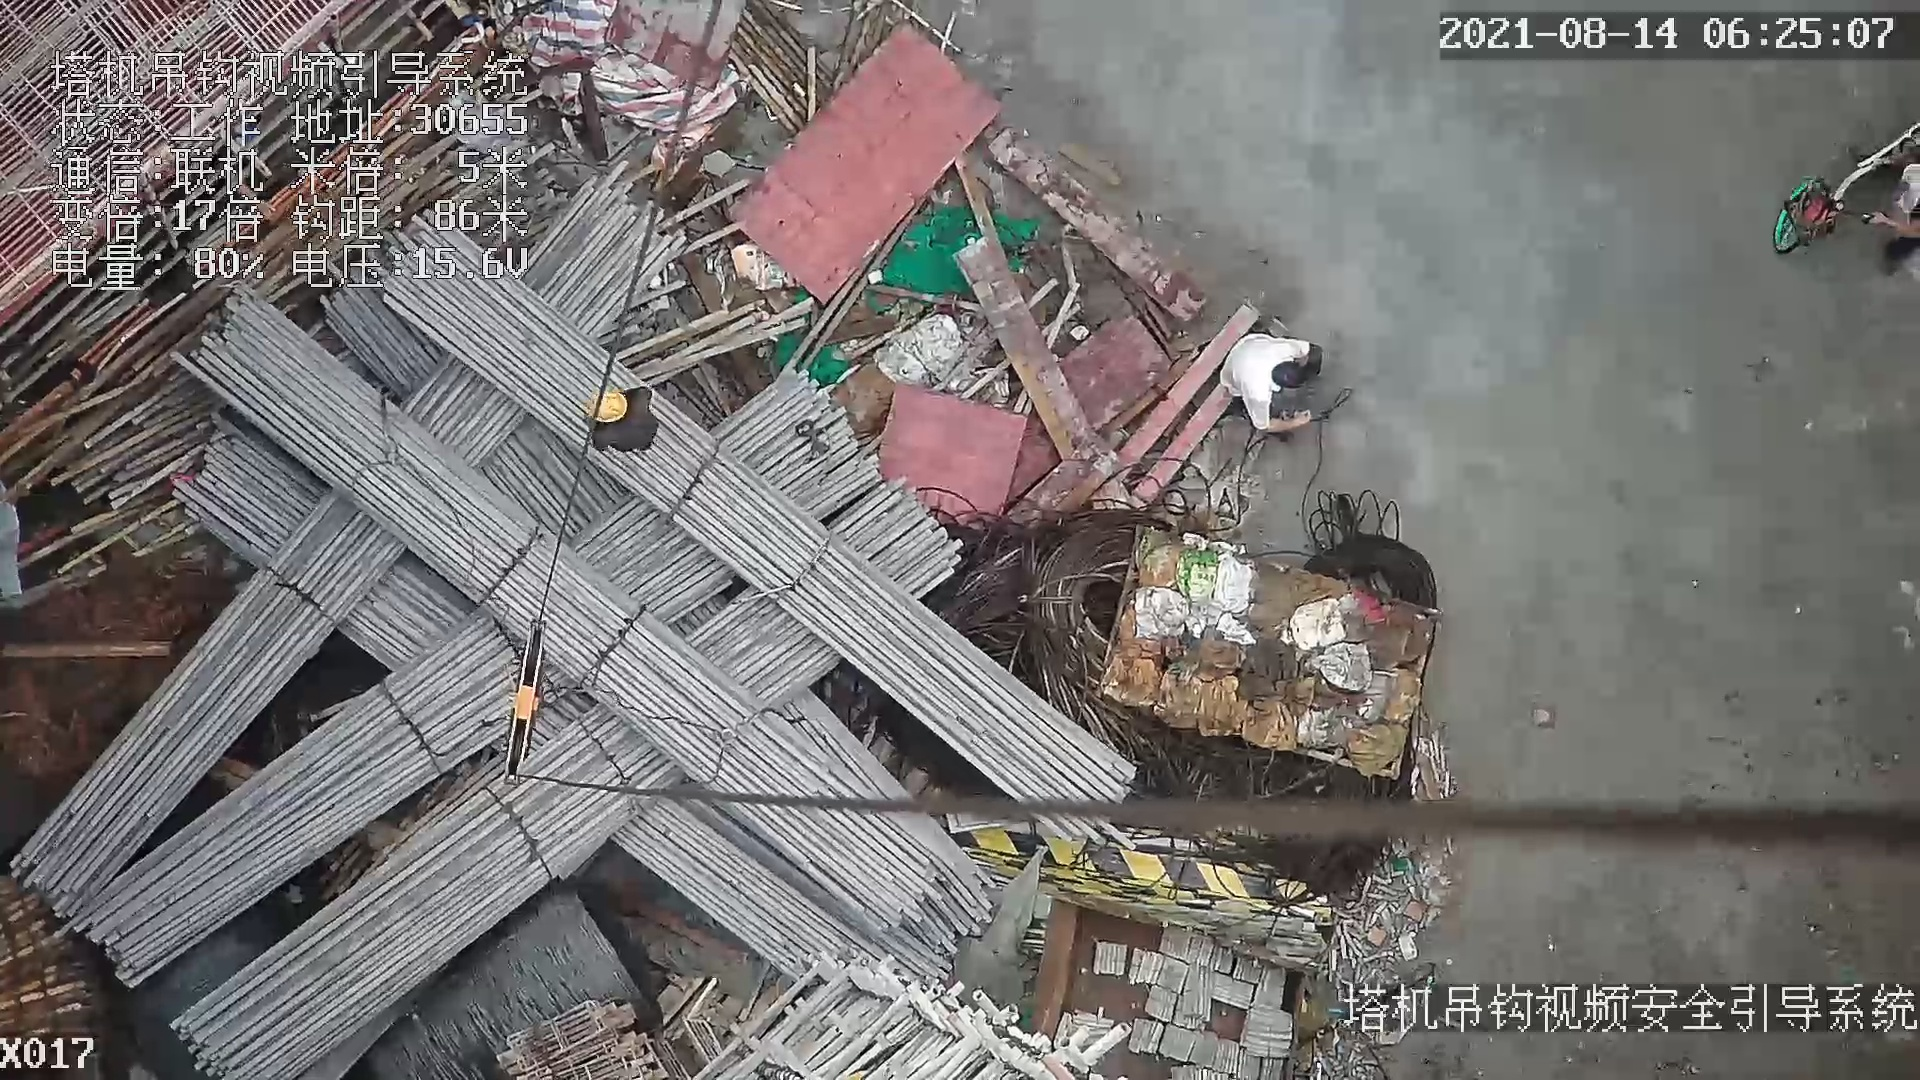helmet: (589, 390, 629, 422)
hook: (497, 613, 550, 794)
person: (1217, 331, 1326, 444), (583, 377, 668, 456)
